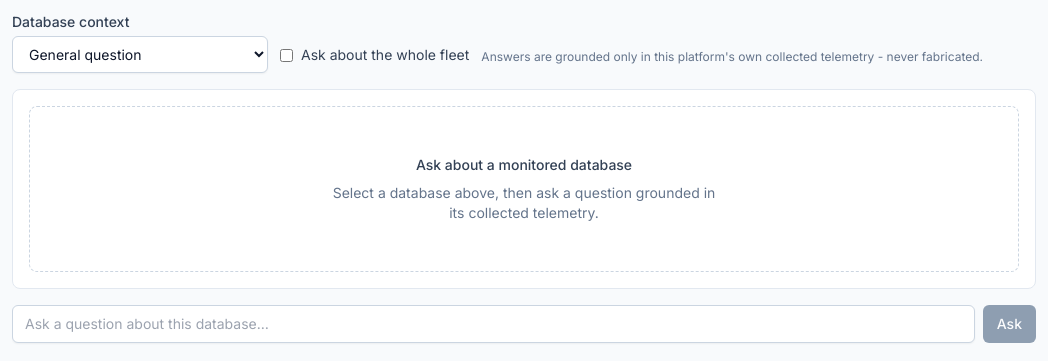
Scenario: AiCopilotPage › asks a question and renders the grounded answer with tool badges
Type "Is it healthy?" into the field with placeholder "Ask a question about this database…" at point(493, 324), box [12,305,975,343]
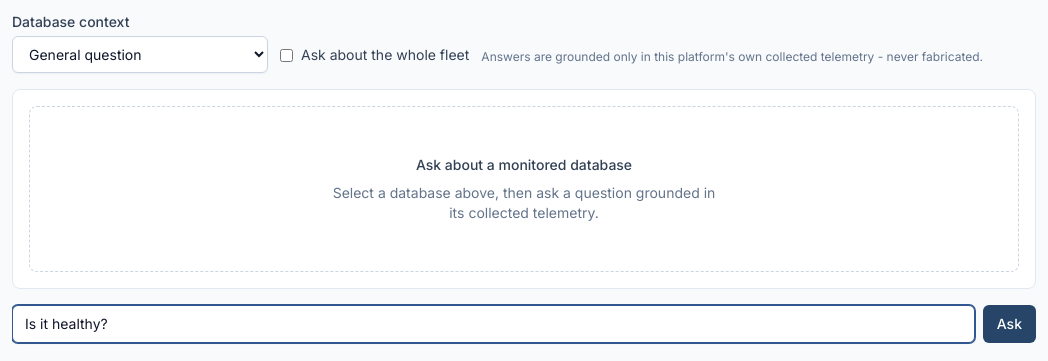
Click the button "Ask" at point(1009, 324), box [983,305,1036,343]
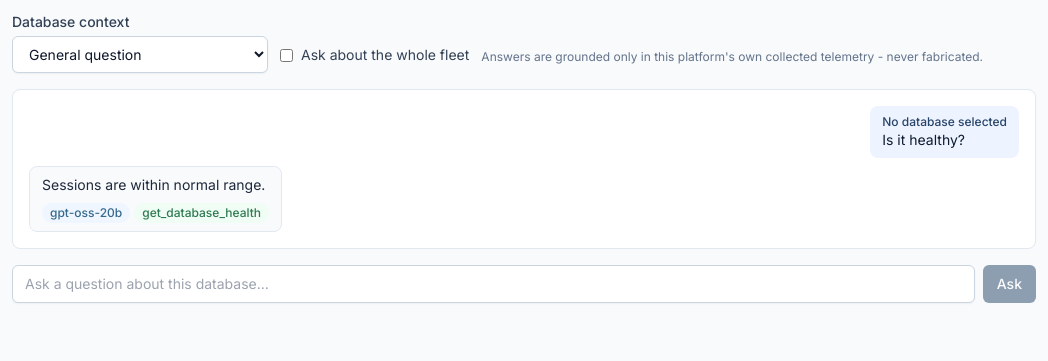
Expected: the text "Sessions are within normal range." is shown, [42,175,269,195]
Expected: the text "gpt-oss-20b" is shown, [42,203,130,223]
Expected: the text "get_database_health" is shown, [134,203,269,223]
